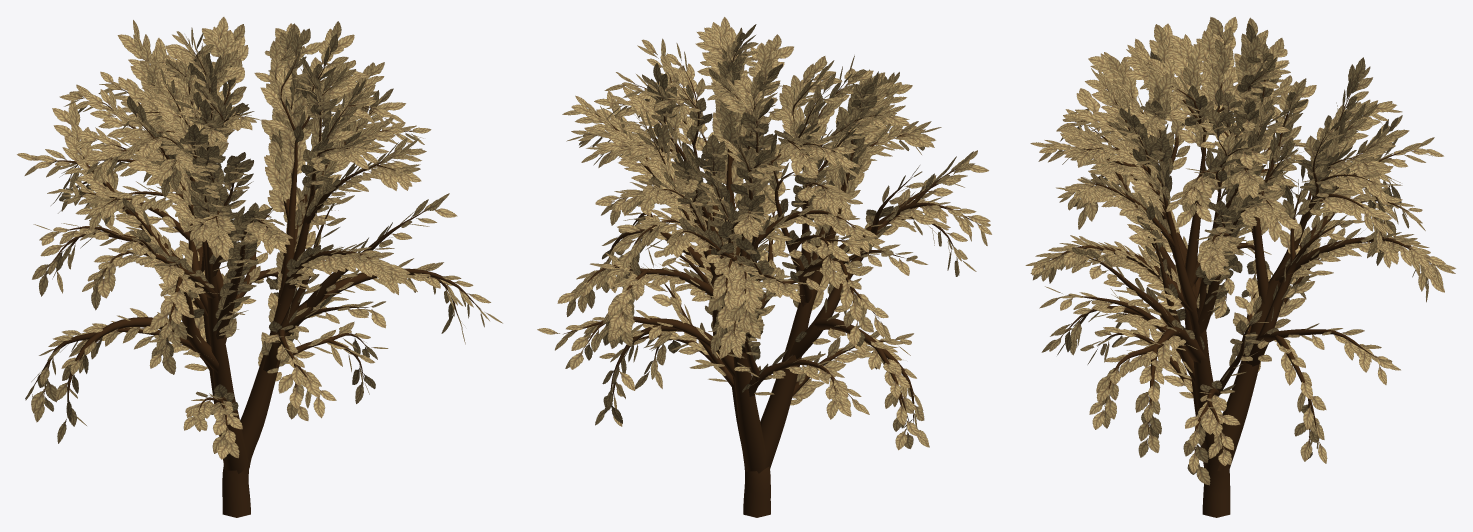
File: ForestTree.fbx
3 renders of one model, left to right at view 1: azimuth 30°, elevation 25°; view 2: azimuth 150°, elevation 25°; view 3: azimuth 270°, elevation 25°, orthographic.
Visible parts, largest first — view 1: leaves; view 2: leaves; view 3: leaves.
Boxes of the visible parts, x1,y1,x2,y2 form: leaves: [17, 17, 502, 517]; leaves: [537, 17, 991, 517]; leaves: [1025, 17, 1455, 517].
Size of the model in its own units: 5.82 by 5.47 by 6.6.
Materials: 2 (1 with a texture image).
